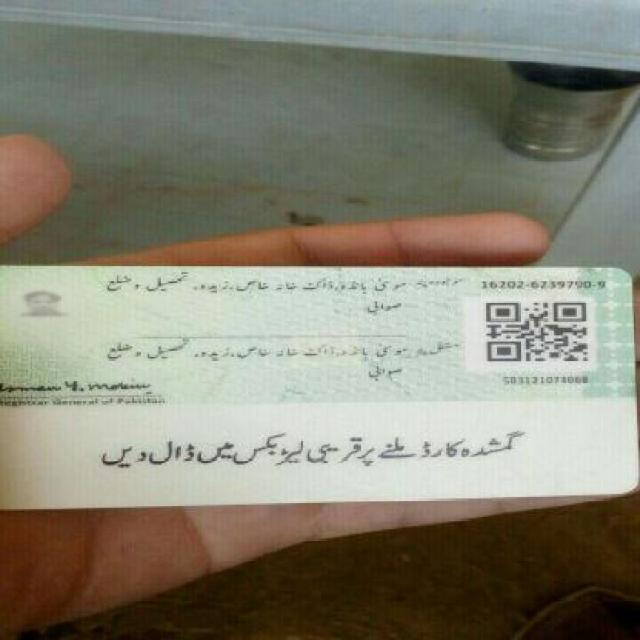Back: (1, 258, 637, 502)
